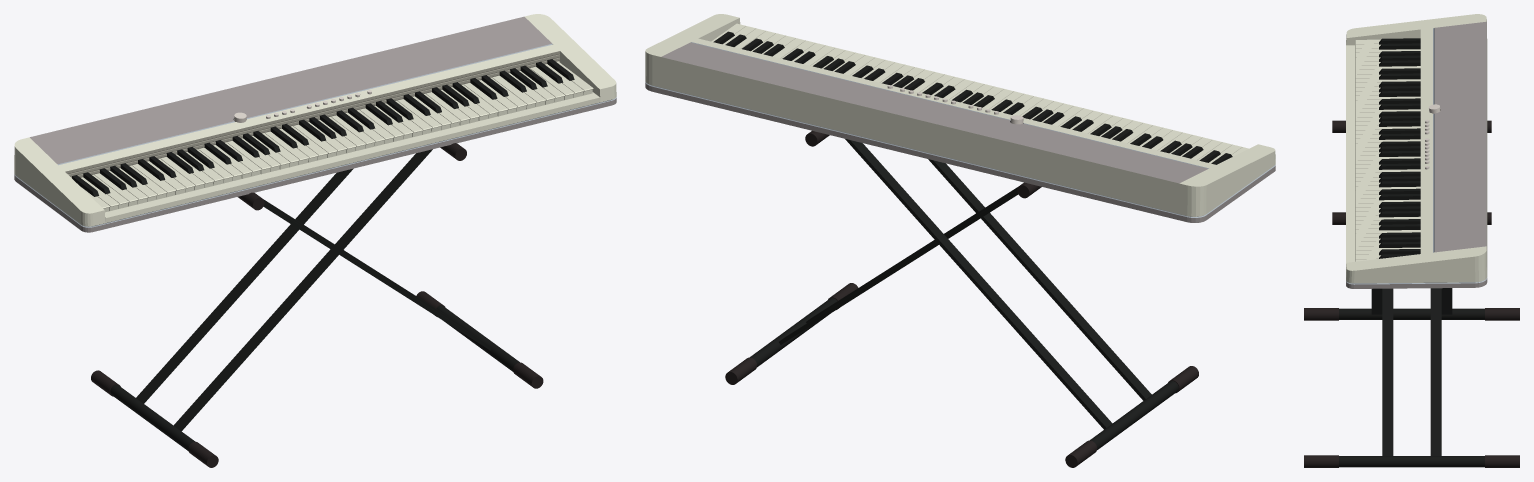
File: Keyboard.fbx
The picture shows the model from 3 angles, left to right: view 1: azimuth 30°, elevation 25°; view 2: azimuth 150°, elevation 25°; view 3: azimuth 270°, elevation 25°; orthographic projection. The views are drawn at different scales.
Parts seen in each view (by area): view 1: Keyboard; view 2: Keyboard; view 3: Keyboard.
Part boxes in pixels (bbox=[...]): Keyboard: bbox=[14, 14, 616, 467]; Keyboard: bbox=[645, 14, 1275, 467]; Keyboard: bbox=[1304, 14, 1519, 467].
Bounding box in the file's own units: 169 × 84.39 × 63.57.
